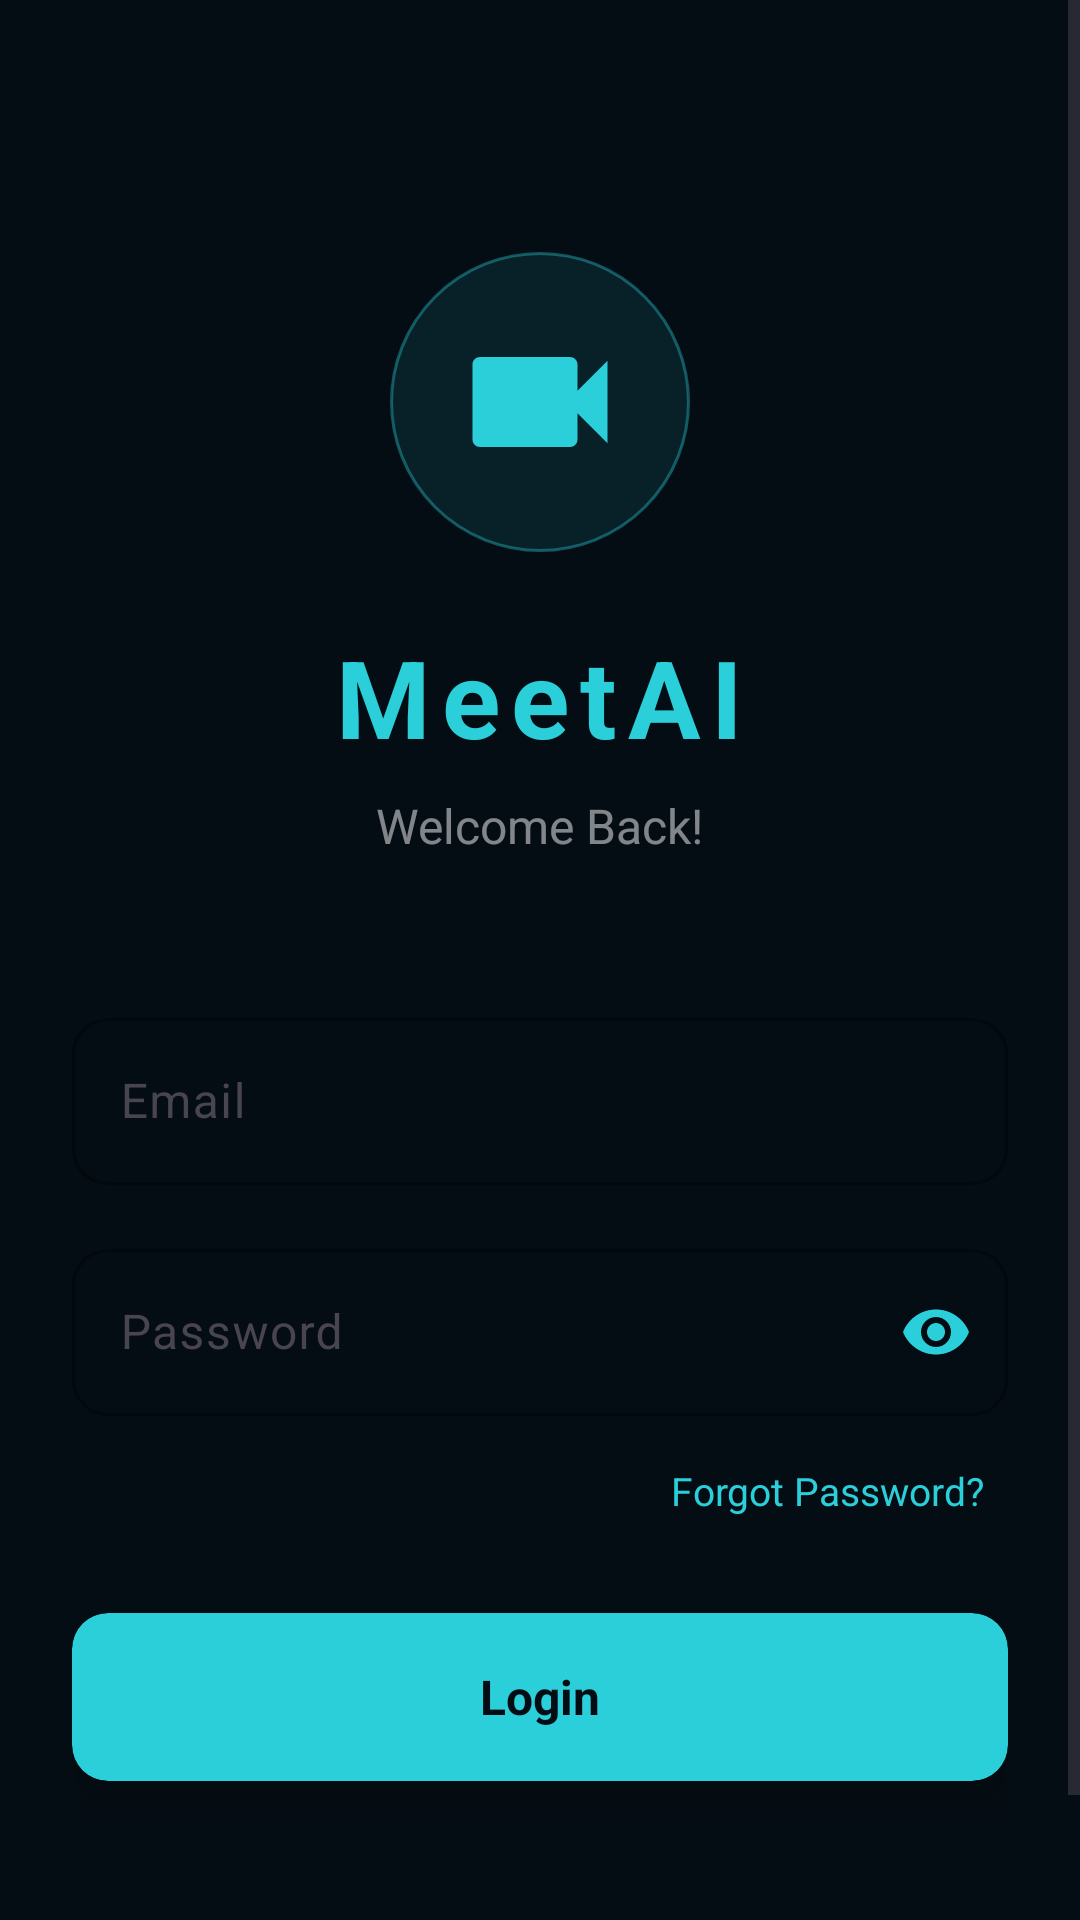

Named icons in this screenshot (1080×1920) and their bounding boxes, (x1, y1, x2, y2):
videocam: (472, 357, 608, 447)
